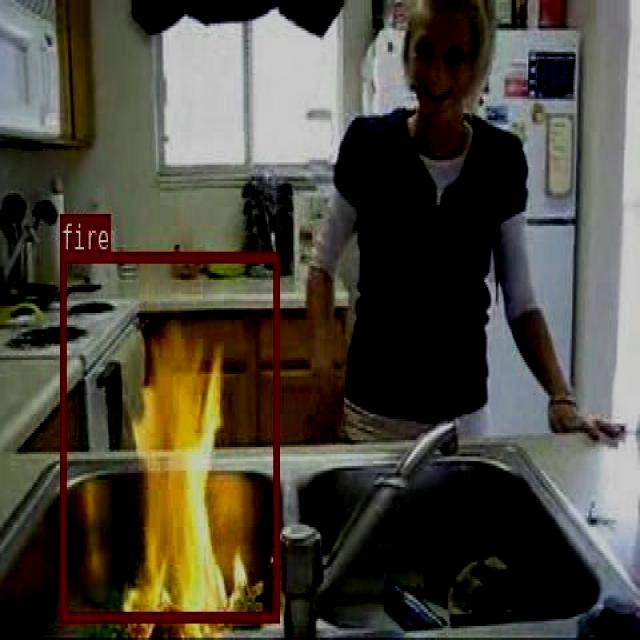fire: (59, 250, 278, 620)
